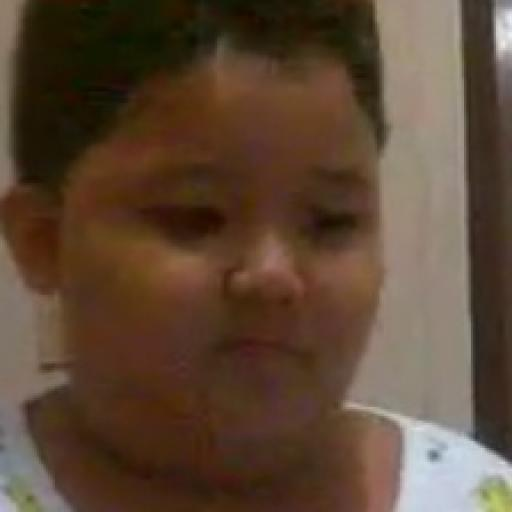Autism: (20, 19, 402, 466)
